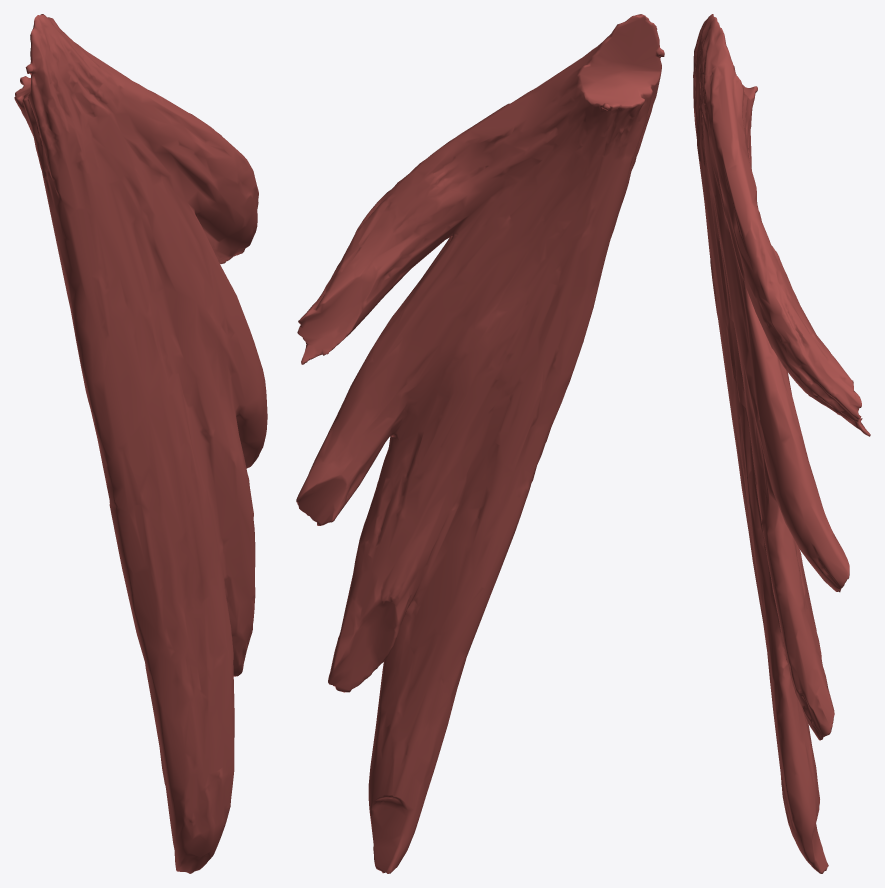
Rendered from FMA46284.glb.
3 renders of one model, left to right at view 1: azimuth 30°, elevation 25°; view 2: azimuth 150°, elevation 25°; view 3: azimuth 270°, elevation 25°, orthographic. The views are drawn at different scales.
Visible parts, largest first — view 1: FMA46284; view 2: FMA46284; view 3: FMA46284.
Part boxes in pixels (left/top/right/bottom): FMA46284: left=14, top=14, right=267, bottom=873; FMA46284: left=296, top=14, right=664, bottom=873; FMA46284: left=693, top=14, right=870, bottom=873.
Bounding box in the file's own units: 0.0224 × 0.0642 × 0.0134.
